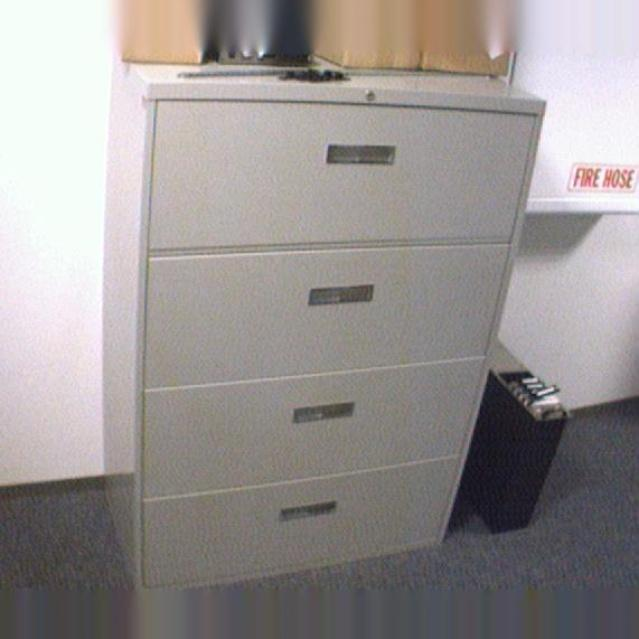Filing Cabinet: (102, 46, 547, 587)
